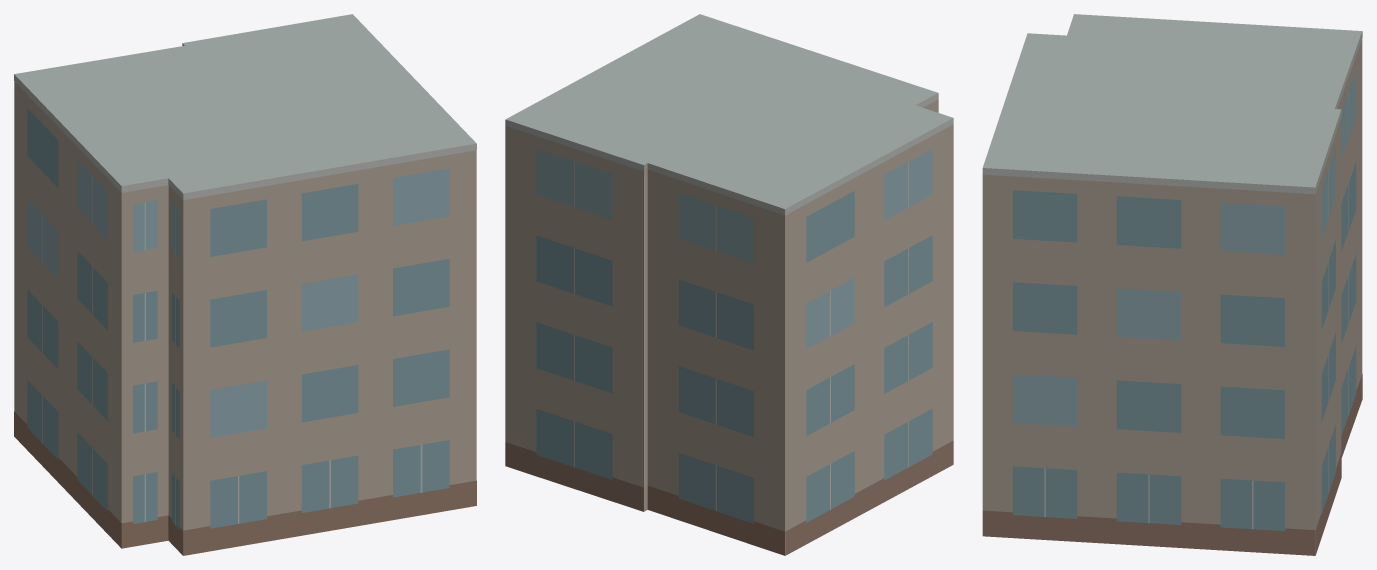
The model's file is survey-upis-32487726.glb.
The picture shows the model from 3 angles, left to right: view 1: azimuth 30°, elevation 25°; view 2: azimuth 150°, elevation 25°; view 3: azimuth 270°, elevation 25°; orthographic projection. The views are drawn at different scales.
Parts seen in each view (by area): view 1: survey-upis-32487726.tmp; view 2: survey-upis-32487726.tmp; view 3: survey-upis-32487726.tmp.
Boxes of the visible parts, bbox=[...] form: survey-upis-32487726.tmp: bbox=[14, 14, 476, 555]; survey-upis-32487726.tmp: bbox=[505, 14, 953, 555]; survey-upis-32487726.tmp: bbox=[982, 14, 1362, 555].
Size of the model in its own units: 13.45 by 13.3 by 12.44.
